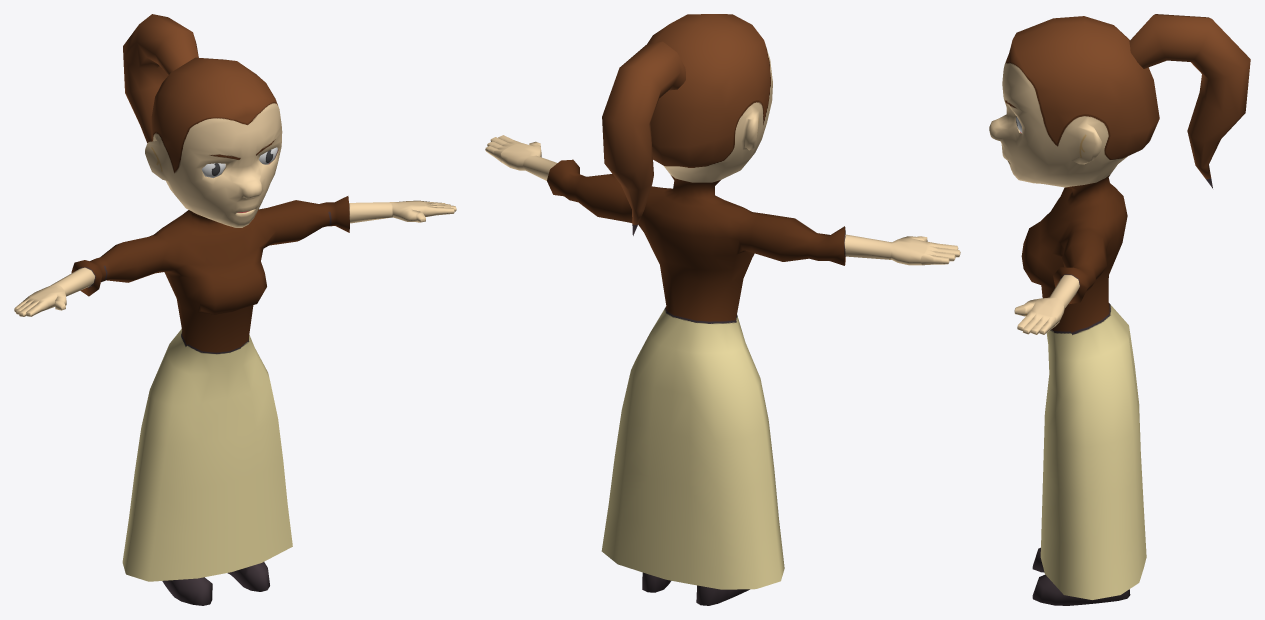
File: Peasant.fbx
3 renders of one model, left to right at view 1: azimuth 30°, elevation 25°; view 2: azimuth 150°, elevation 25°; view 3: azimuth 270°, elevation 25°, orthographic. The views are drawn at different scales.
Visible parts, largest first — view 1: Peasant; view 2: Peasant; view 3: Peasant.
Boxes of the visible parts, x1,y1,x2,y2 form: Peasant: (14, 14, 456, 605); Peasant: (485, 14, 960, 605); Peasant: (989, 14, 1250, 605).
Size of the model in its own units: 2.37 by 1.14 by 2.73.
Materials: 1 (1 with a texture image).
